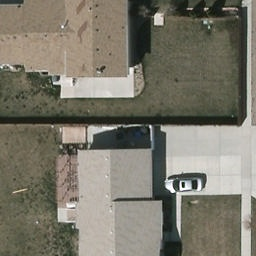car: (161, 177, 207, 197)
